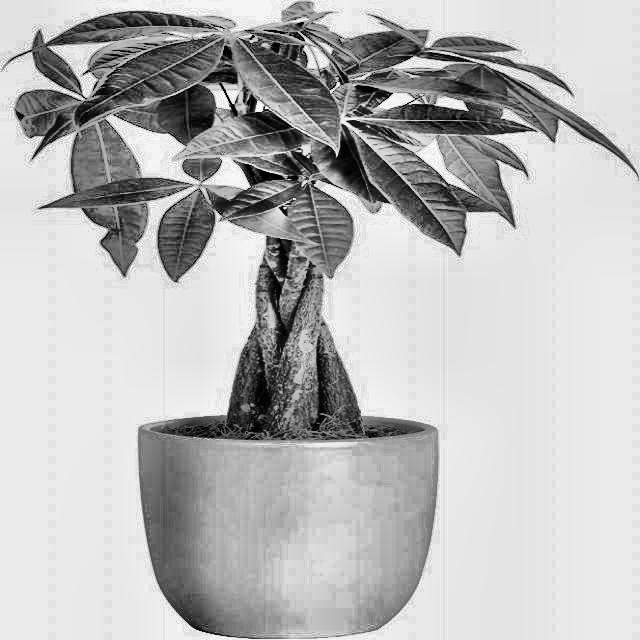plants: (0, 0, 636, 433)
